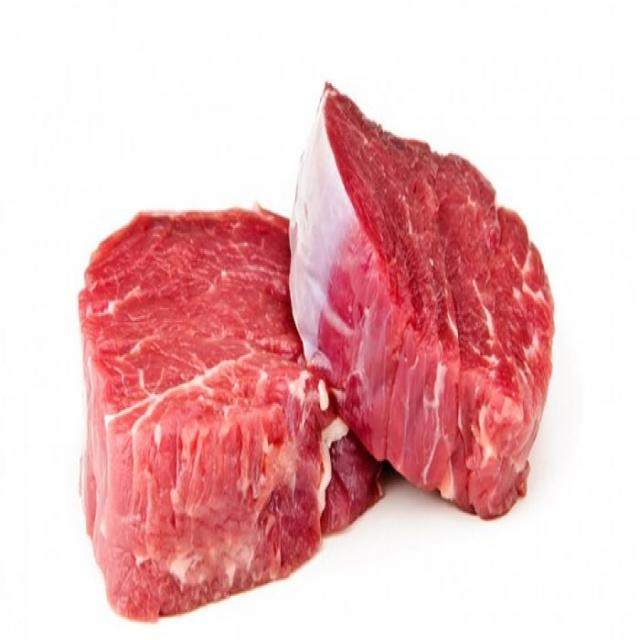Beef: (73, 165, 410, 618), (282, 72, 568, 538)
